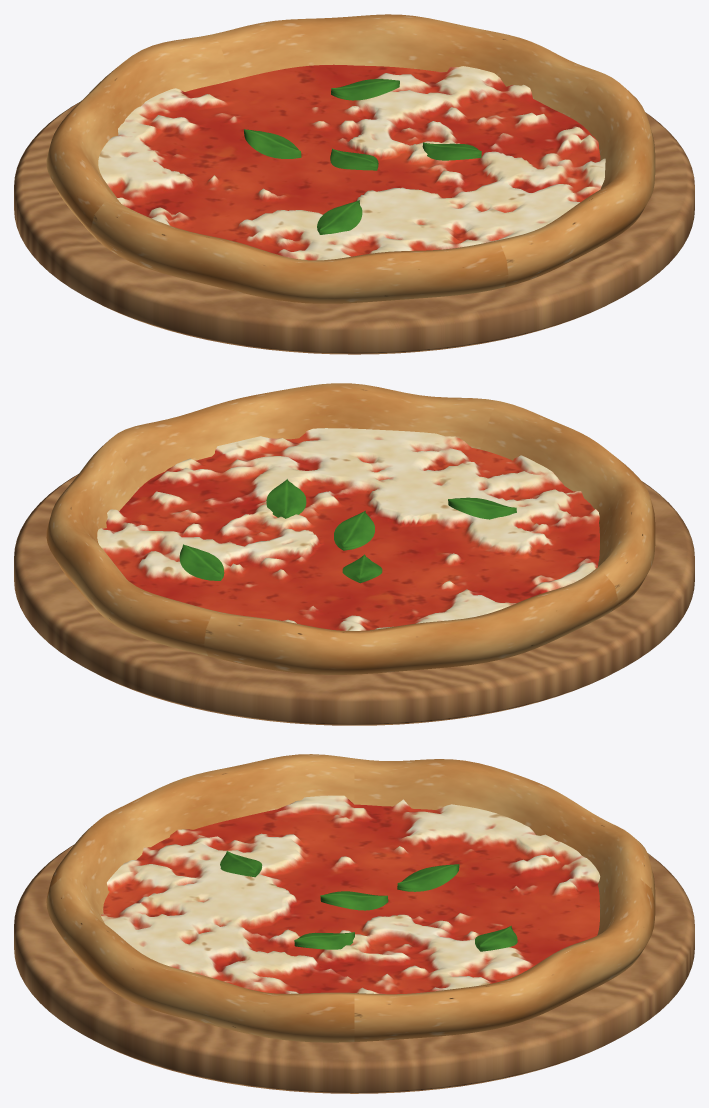
File: pizza-margherita.glb
3 renders of one model, top to bottom at view 1: azimuth 30°, elevation 25°; view 2: azimuth 150°, elevation 25°; view 3: azimuth 270°, elevation 25°, orthographic.
Parts seen in each view (by area): view 1: pizza-margherita; view 2: pizza-margherita; view 3: pizza-margherita.
Part boxes in pixels (<box>): pizza-margherita: <box>14,14,694,354</box>; pizza-margherita: <box>14,383,694,725</box>; pizza-margherita: <box>14,754,694,1093</box>.
Size of the model in its own units: 0.34 by 0.0444 by 0.34.
Materials: 4 (4 with a texture image).
